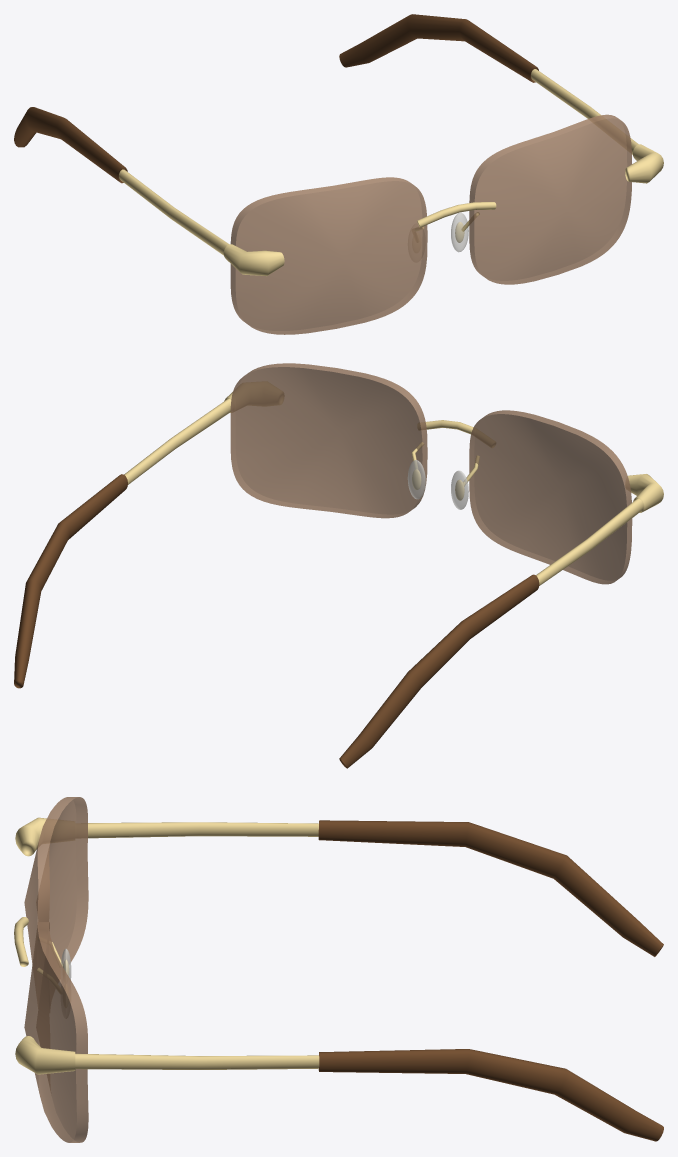
File: oculos-03-rimless-pantera.glb
The picture shows the model from 3 angles, top to bottom: view 1: azimuth 30°, elevation 25°; view 2: azimuth 150°, elevation 25°; view 3: azimuth 270°, elevation 25°; orthographic projection. The views are drawn at different scales.
Visible parts, largest first — view 1: M03_Lens_L, M03_Lens_R, TempleTip_R, TempleTip_L, TempleMetal_L, M03_PantherBody_L, M03_PantherBody_R, TempleMetal_R, M03_RimlessBridge_Gold, NosePad_R; view 2: M03_Lens_R, M03_Lens_L, TempleTip_L, TempleTip_R, TempleMetal_L, TempleMetal_R, M03_PantherBody_L; view 3: TempleTip_L, TempleTip_R, M03_Lens_R, M03_Lens_L, TempleMetal_R, TempleMetal_L, M03_PantherBody_R, M03_PantherBody_L.
Boxes of the visible parts, x1,y1,x2,y2 form: M03_Lens_L: (230, 177, 427, 334); M03_Lens_R: (469, 114, 631, 284); TempleTip_R: (339, 14, 538, 82); TempleTip_L: (14, 107, 127, 183); TempleMetal_L: (119, 169, 229, 255); M03_PantherBody_L: (223, 244, 284, 276); M03_PantherBody_R: (625, 144, 663, 183); TempleMetal_R: (531, 69, 638, 154); M03_RimlessBridge_Gold: (417, 202, 496, 227); NosePad_R: (451, 212, 468, 252); M03_Lens_R: (230, 363, 427, 518); M03_Lens_L: (469, 410, 632, 584); TempleTip_L: (339, 574, 539, 768); TempleTip_R: (14, 474, 127, 688); TempleMetal_L: (536, 498, 643, 585); TempleMetal_R: (124, 399, 231, 484); M03_PantherBody_L: (627, 474, 663, 512); TempleTip_L: (318, 820, 663, 956); TempleTip_R: (318, 1049, 663, 1141); M03_Lens_R: (24, 922, 88, 1142); M03_Lens_L: (24, 797, 88, 963); TempleMetal_R: (75, 1053, 319, 1069); TempleMetal_L: (88, 822, 318, 838); M03_PantherBody_R: (15, 1036, 75, 1074); M03_PantherBody_L: (15, 817, 46, 856).
Bounding box in the file's own units: 0.136 × 0.043 × 0.1562.
